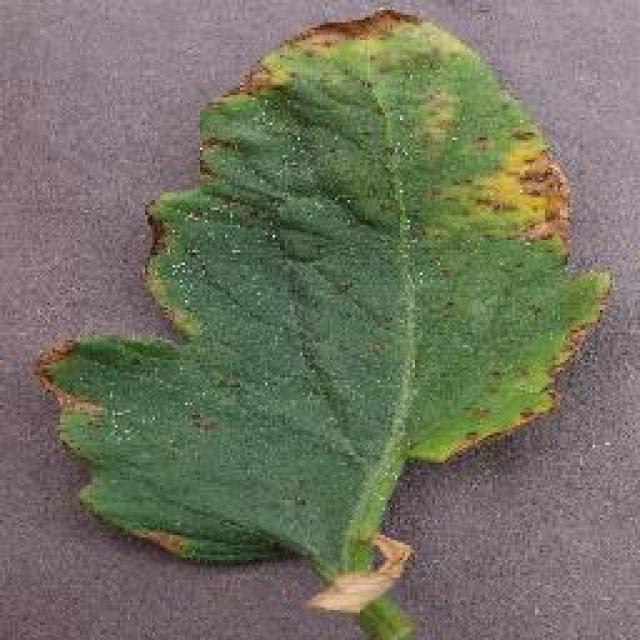Tomato___Bacterial_spot: (23, 8, 616, 638)
